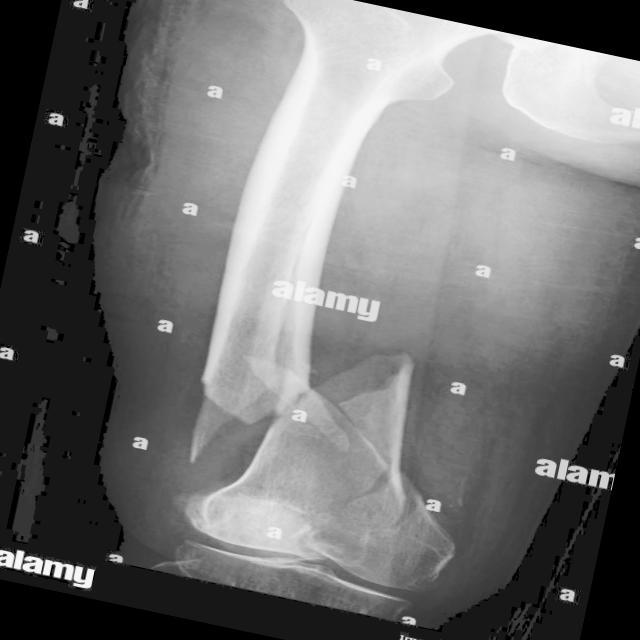Comminuted Fracture: (132, 310, 366, 535)
